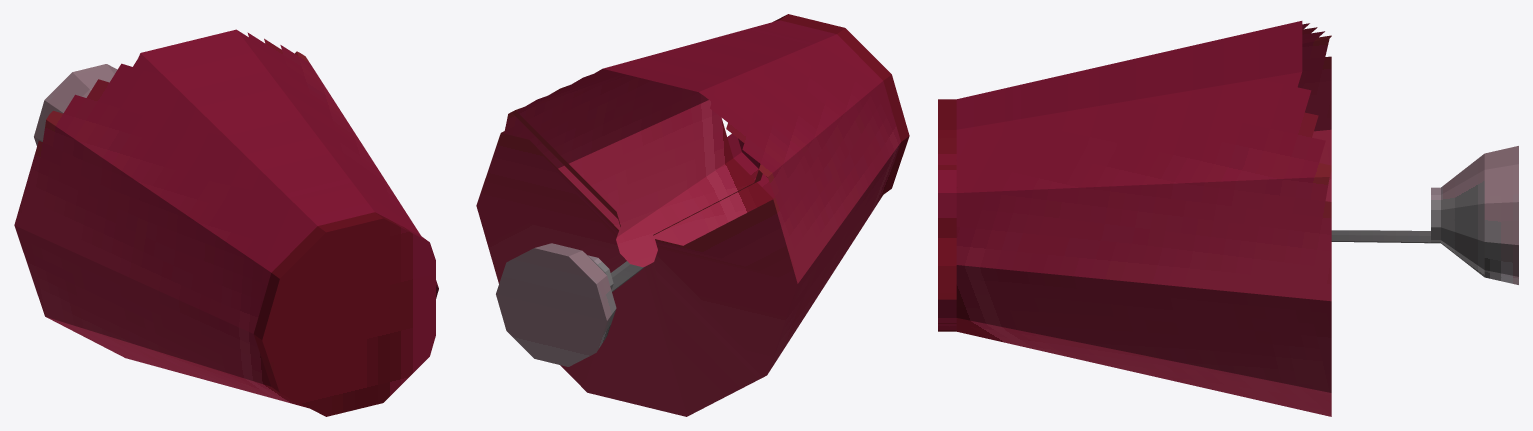
The model's file is pz_lamp_10.obj.
3 renders of one model, left to right at view 1: azimuth 30°, elevation 25°; view 2: azimuth 150°, elevation 25°; view 3: azimuth 270°, elevation 25°, orthographic. The views are drawn at different scales.
Bounding box in the file's own units: 0.26 × 0.2473 × 0.372.
1 material, 1 textured.
